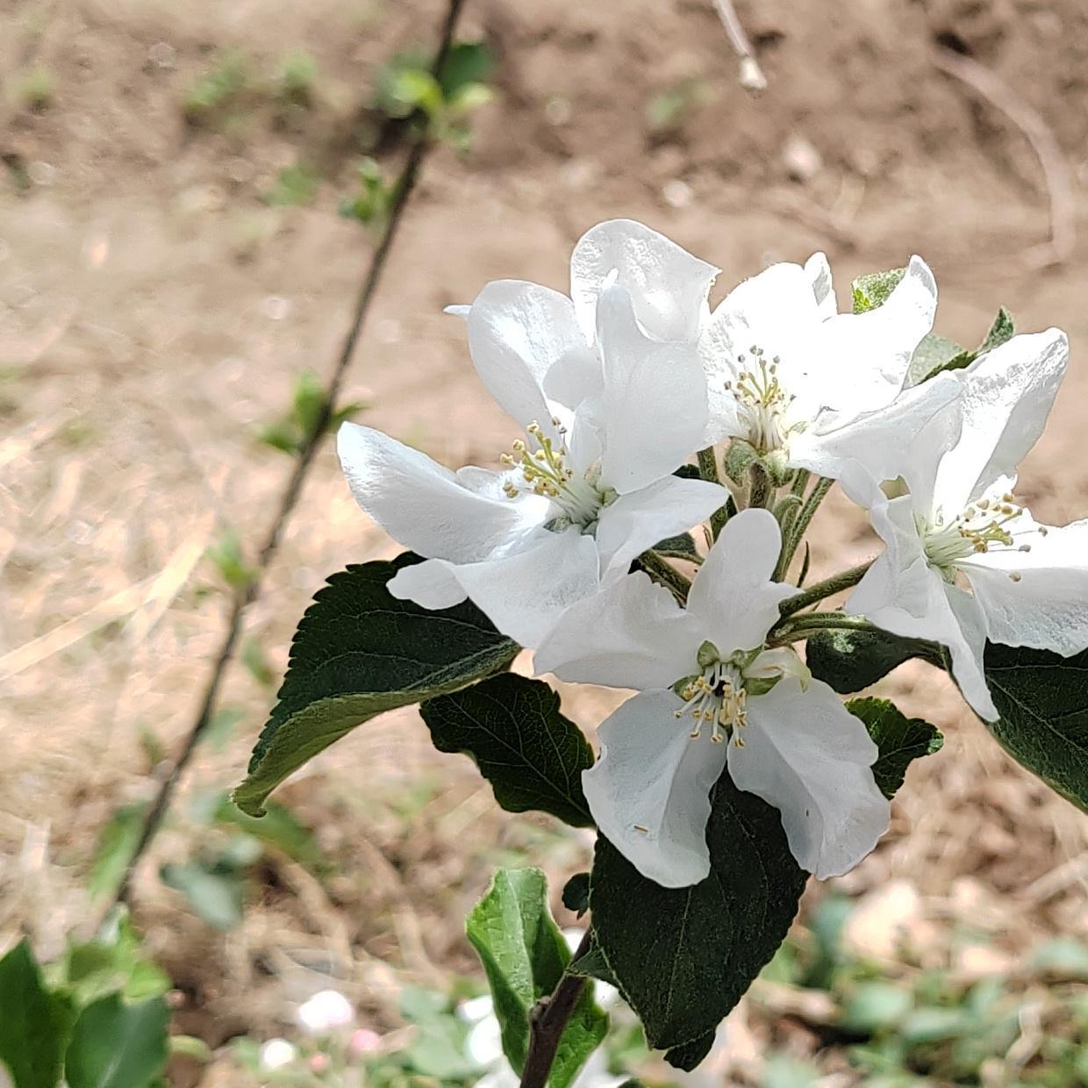apple_flower: (336, 219, 727, 648), (531, 509, 888, 888), (803, 327, 1088, 719), (704, 253, 938, 464)
